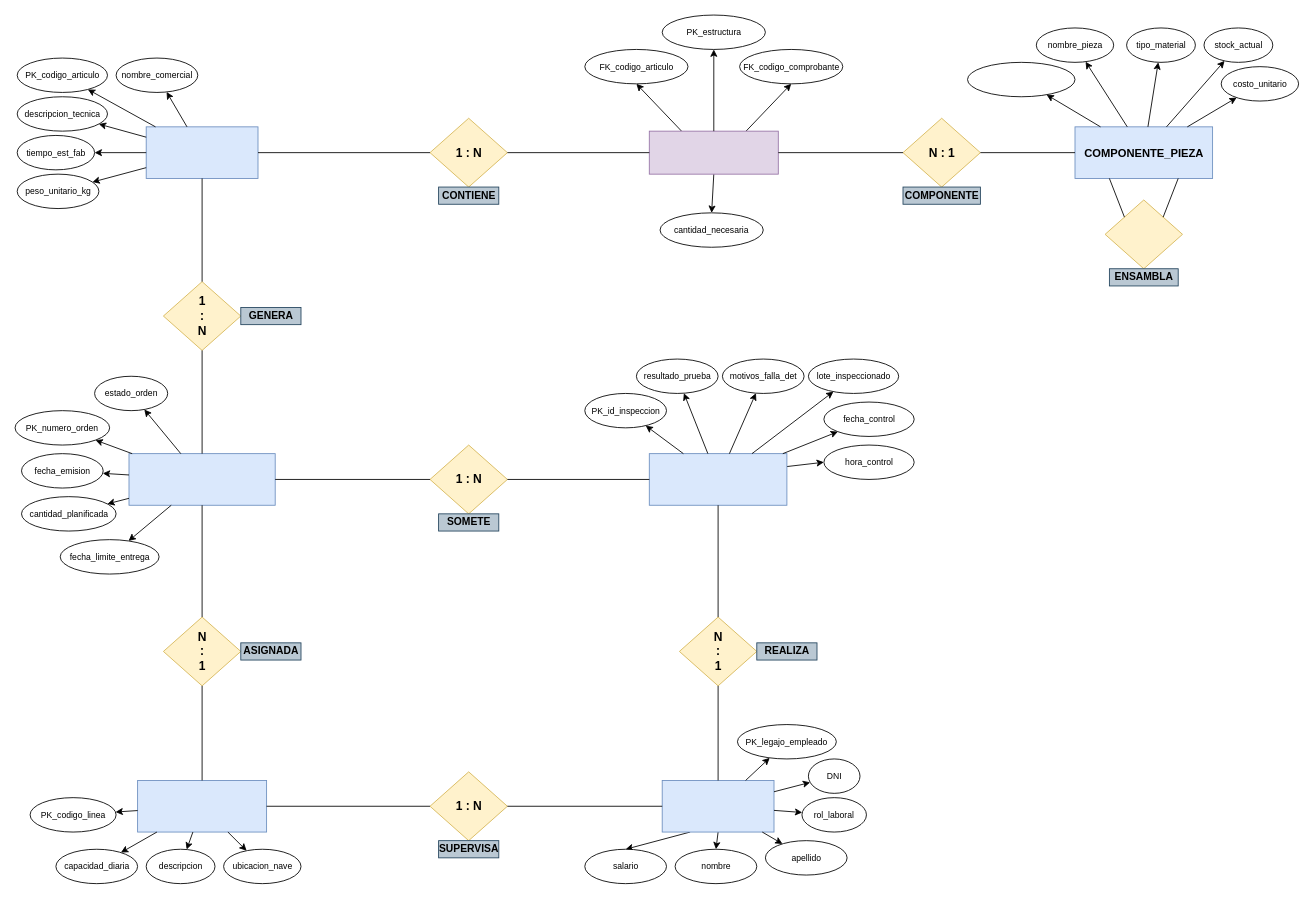
Image size: 1314x899. Some labels were removed from this diagram. The shapes that lost their labels are listed below. From the top down, each one's box as (x1, y1, x2, y2) in pixels, then its label:
(967, 61, 1075, 97): PK_codigo_componente
(145, 126, 258, 178): PRODUCTO
(648, 130, 778, 174): ESTRUCTURA_BOM
(1104, 199, 1182, 269): 1 (parte) : N (compuesto)
(128, 453, 275, 505): ORDEN_FABRICACION
(648, 453, 787, 505): INSPECCION_CALIDAD
(137, 780, 267, 832): LINEA_MONTAJE
(661, 780, 774, 832): EMPLEADO
